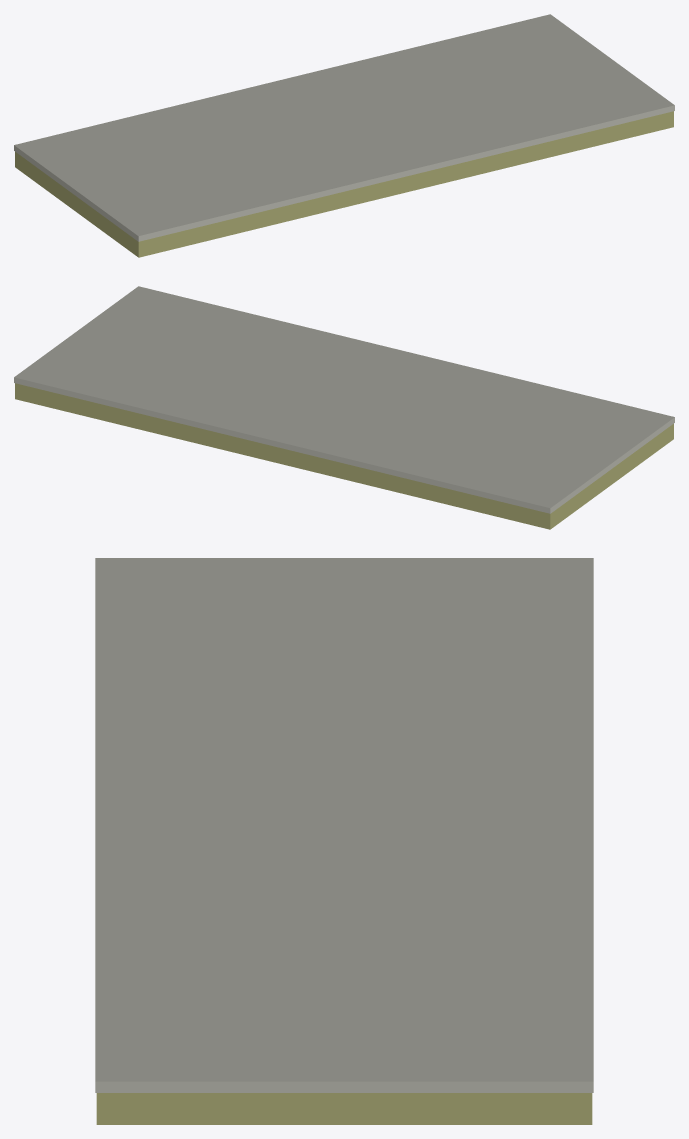
Rendered from SM_KitAnden_v1_LOD1.fbx.
3 renders of one model, top to bottom at view 1: azimuth 30°, elevation 25°; view 2: azimuth 150°, elevation 25°; view 3: azimuth 270°, elevation 25°, orthographic. The views are drawn at different scales.
Parts seen in each view (by area): view 1: SM_bloques.kit_anden_v1_LOD1; view 2: SM_bloques.kit_anden_v1_LOD1; view 3: SM_bloques.kit_anden_v1_LOD1.
Part boxes in pixels (x1,y1,x2,y2): SM_bloques.kit_anden_v1_LOD1: (14,14,674,257); SM_bloques.kit_anden_v1_LOD1: (14,286,674,529); SM_bloques.kit_anden_v1_LOD1: (95,558,593,1124).
Size of the model in its own units: 10 by 0.39 by 4.02.
